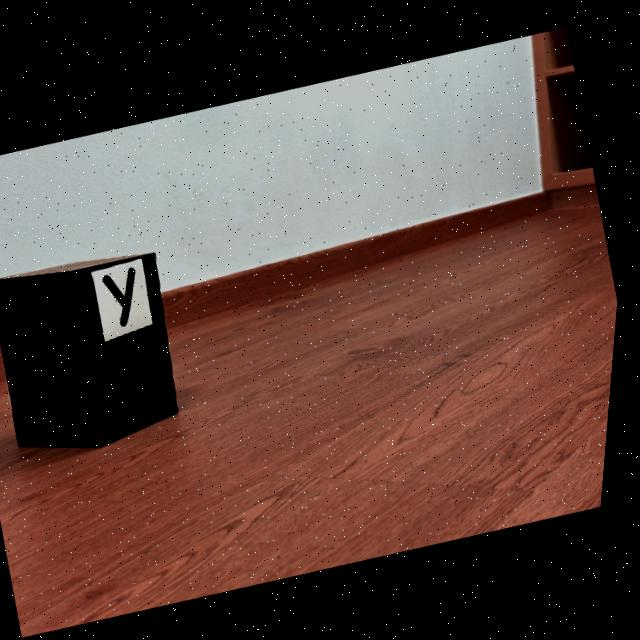Y: (107, 266, 140, 325)
